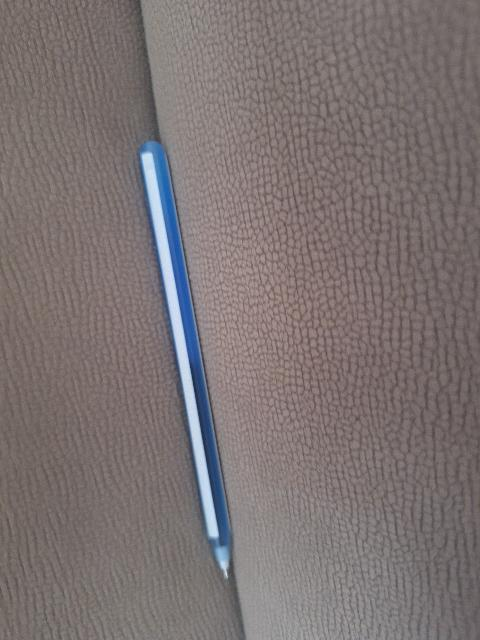writing_tool: (130, 136, 243, 588)
